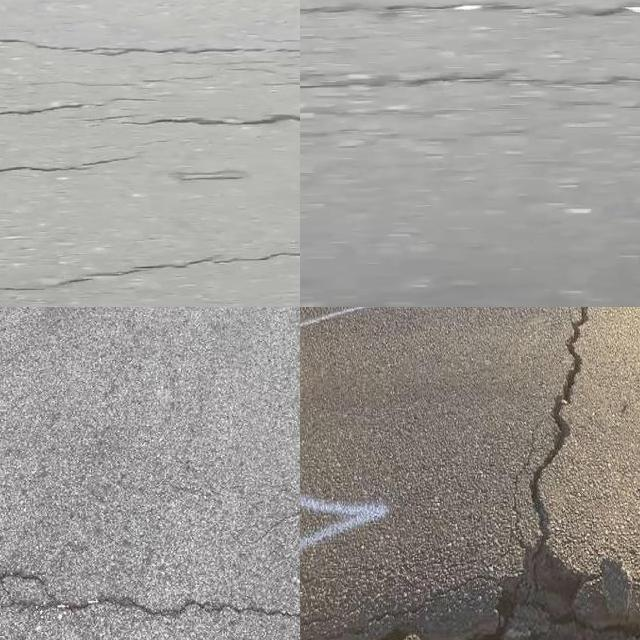Melintang: (0, 559, 300, 635), (300, 575, 640, 640), (0, 238, 300, 307), (0, 29, 300, 65), (300, 0, 640, 31), (91, 105, 300, 137), (0, 143, 143, 184), (232, 493, 300, 538)
Memanjang: (491, 307, 614, 582)
